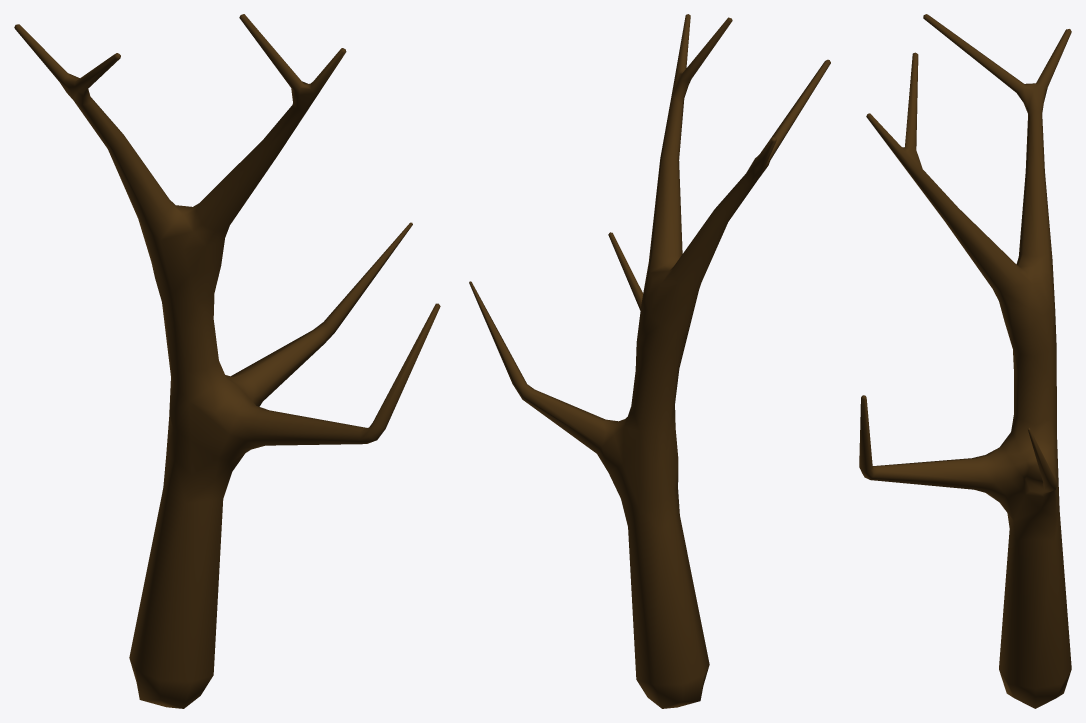
File: tree.glb
3 views of the same model, side by side, from view 1: azimuth 30°, elevation 25°; view 2: azimuth 150°, elevation 25°; view 3: azimuth 270°, elevation 25° (orthographic). The views are drawn at different scales.
Visible parts, largest first — view 1: tree; view 2: tree; view 3: tree.
Boxes of the visible parts, box(x1,y1,x2,y2) form: tree: box(14, 14, 440, 708); tree: box(469, 14, 830, 708); tree: box(859, 14, 1071, 708).
Bounding box in the file's own units: 3.86 × 7.28 × 2.15.
